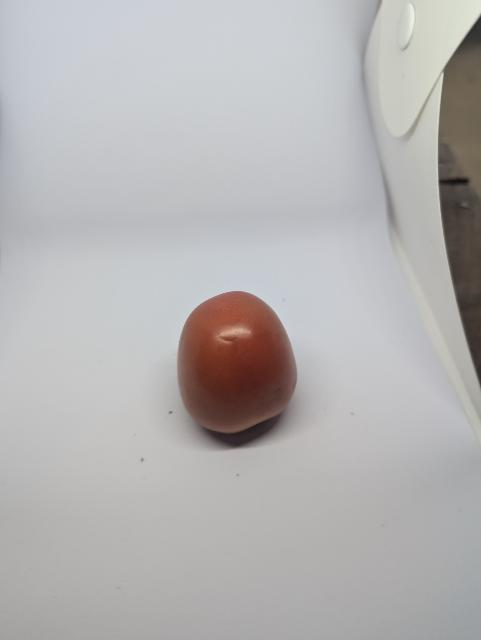red: (175, 288, 300, 435)
